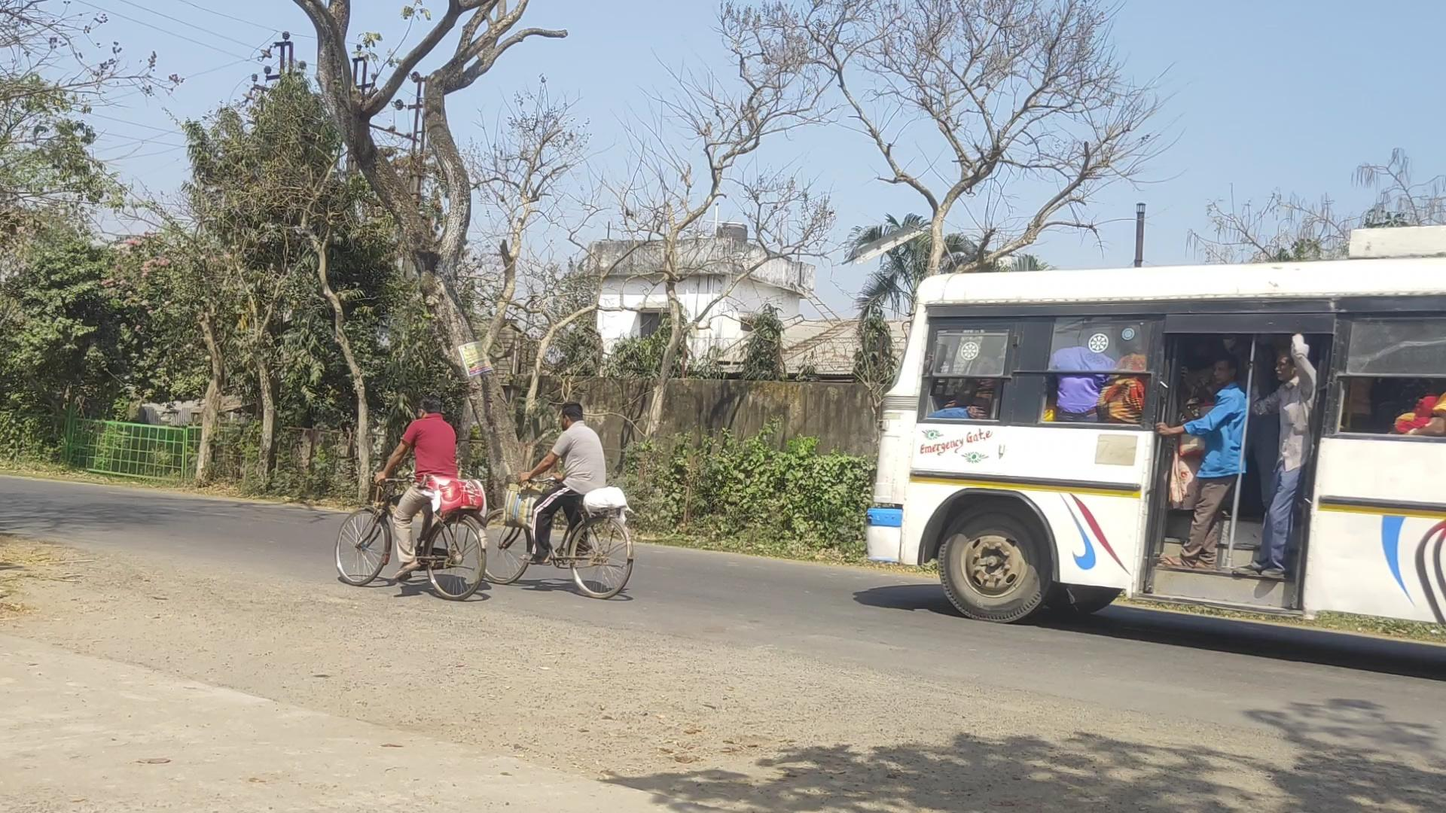Bus: (863, 224, 1446, 662)
bike: (334, 395, 489, 600), (477, 403, 634, 600)
